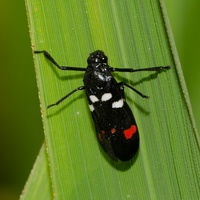insect: (34, 50, 169, 160)
